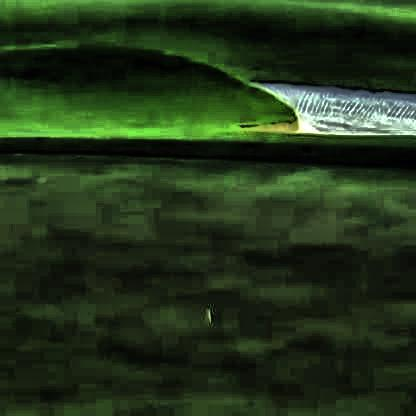golfball: (201, 298, 212, 320)
